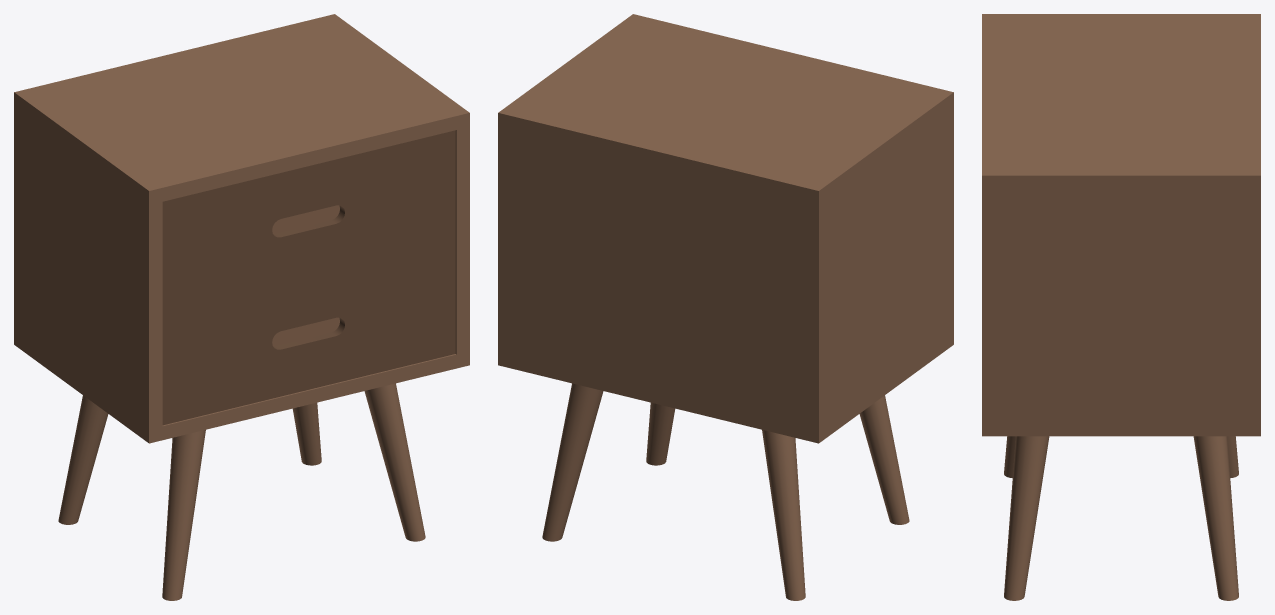
The model's file is komodin.fbx.
The picture shows the model from 3 angles, left to right: view 1: azimuth 30°, elevation 25°; view 2: azimuth 150°, elevation 25°; view 3: azimuth 270°, elevation 25°; orthographic projection. The views are drawn at different scales.
Visible parts, largest first — view 1: bedside_table_01, bedside_table_drawer_02, bedside_table_drawer_01; view 2: bedside_table_01; view 3: bedside_table_01.
Boxes of the visible parts, bbox=[...] form: bedside_table_01: bbox=[14, 14, 469, 600]; bedside_table_drawer_02: bbox=[162, 241, 455, 425]; bedside_table_drawer_01: bbox=[162, 130, 455, 312]; bedside_table_01: bbox=[498, 14, 953, 600]; bedside_table_01: bbox=[982, 14, 1260, 600].
Size of the model in its own units: 48 by 61 by 35.
